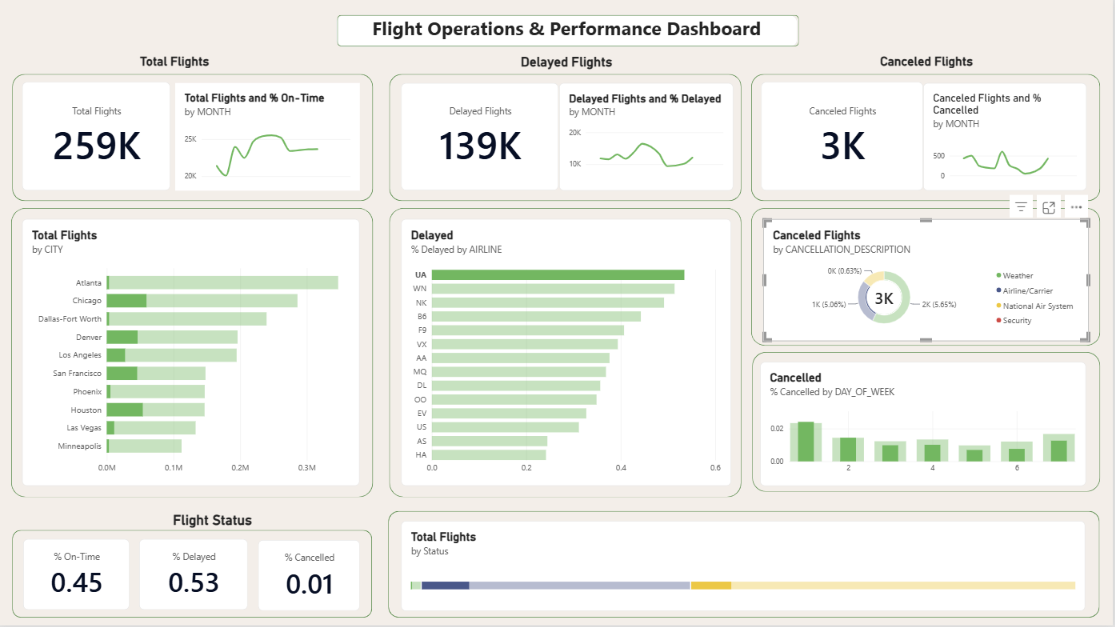

The dashboard page shown, as its layout file describes it:
{"tool":"powerbi","page":{"name":"Page 1","canvas":[1920,1080],"ordinal":0},"visuals":[{"type":"cardVisual","fields":{"Data":["flights.Total Flights"]},"box":[80,110,236,172],"z":0},{"type":"lineChart","fields":{"Category":["flights.MONTH"],"Y":["flights.Total Flights"]},"box":[315,110,264,172],"z":1000},{"type":"cardVisual","fields":{"Data":["flights.Delayed Flights"]},"box":[725,105,236,172],"z":2000},{"type":"lineChart","fields":{"Category":["flights.MONTH"],"Y":["flights.Delayed Flights"]},"box":[960,107.5,236,172],"z":3000},{"type":"cardVisual","fields":{"Data":["flights.Canceled Flights"]},"box":[1378.4,107.8,236,172],"z":4000},{"type":"lineChart","fields":{"Category":["flights.MONTH"],"Y":["flights.Canceled Flights"]},"box":[1613.7,109.8,236,172],"z":5000},{"type":"cardVisual","title":"On-Time ","fields":{"Data":["flights.% On-Time"]},"box":[56,816,170,188],"z":6000},{"type":"cardVisual","title":"Delayed","fields":{"Data":["flights.% Delayed"]},"box":[248,816,200,188],"z":7000},{"type":"cardVisual","title":"Cancelled","fields":{"Data":["flights.% Cancelled"]},"box":[480,816,200,188],"z":8000},{"type":"clusteredBarChart","fields":{"Category":["airports.CITY"],"Y":["flights.Total Flights"]},"box":[79.1,311,568.6,482.4],"z":9000},{"type":"clusteredBarChart","fields":{"Category":["flights.AIRLINE"],"Y":["flights.% Delayed"]},"box":[676.5,298,568.6,482.4],"z":10000},{"type":"donutChart","fields":{"Category":["cancellation_codes.CANCELLATION_DESCRIPTION"],"Y":["flights.Canceled Flights"]},"box":[1313.7,298,584.3,196.1],"z":11000},{"type":"clusteredColumnChart","fields":{"Category":["flights.DAY_OF_WEEK"],"Y":["flights.% Cancelled"]},"box":[1321.6,539.2,568.6,241.2],"z":12000},{"type":"hundredPercentStackedBarChart","fields":{"Series":["flights.Status"],"Y":["flights.Total Flights"]},"box":[760,816,1116,188],"z":13000}]}

Visuals, with their boxes in screenshot pixels (x1, y1, x2, y2), scaled from the page's 1920x1080 canvas onto the 1115x627 screenshot:
cardVisual - flights.Total Flights: BBox(46, 64, 184, 164)
lineChart - flights.MONTH x flights.Total Flights: BBox(183, 64, 336, 164)
cardVisual - flights.Delayed Flights: BBox(421, 61, 558, 161)
lineChart - flights.MONTH x flights.Delayed Flights: BBox(558, 62, 695, 162)
cardVisual - flights.Canceled Flights: BBox(800, 63, 938, 162)
lineChart - flights.MONTH x flights.Canceled Flights: BBox(937, 64, 1074, 164)
"On-Time " cardVisual: BBox(33, 474, 131, 583)
"Delayed" cardVisual: BBox(144, 474, 260, 583)
"Cancelled" cardVisual: BBox(279, 474, 395, 583)
clusteredBarChart - airports.CITY x flights.Total Flights: BBox(46, 181, 376, 461)
clusteredBarChart - flights.AIRLINE x flights.% Delayed: BBox(393, 173, 723, 453)
donutChart - cancellation_codes.CANCELLATION_DESCRIPTION x flights.Canceled Flights: BBox(763, 173, 1102, 287)
clusteredColumnChart - flights.DAY_OF_WEEK x flights.% Cancelled: BBox(767, 313, 1098, 453)
hundredPercentStackedBarChart - flights.Status x flights.Total Flights: BBox(441, 474, 1089, 583)
